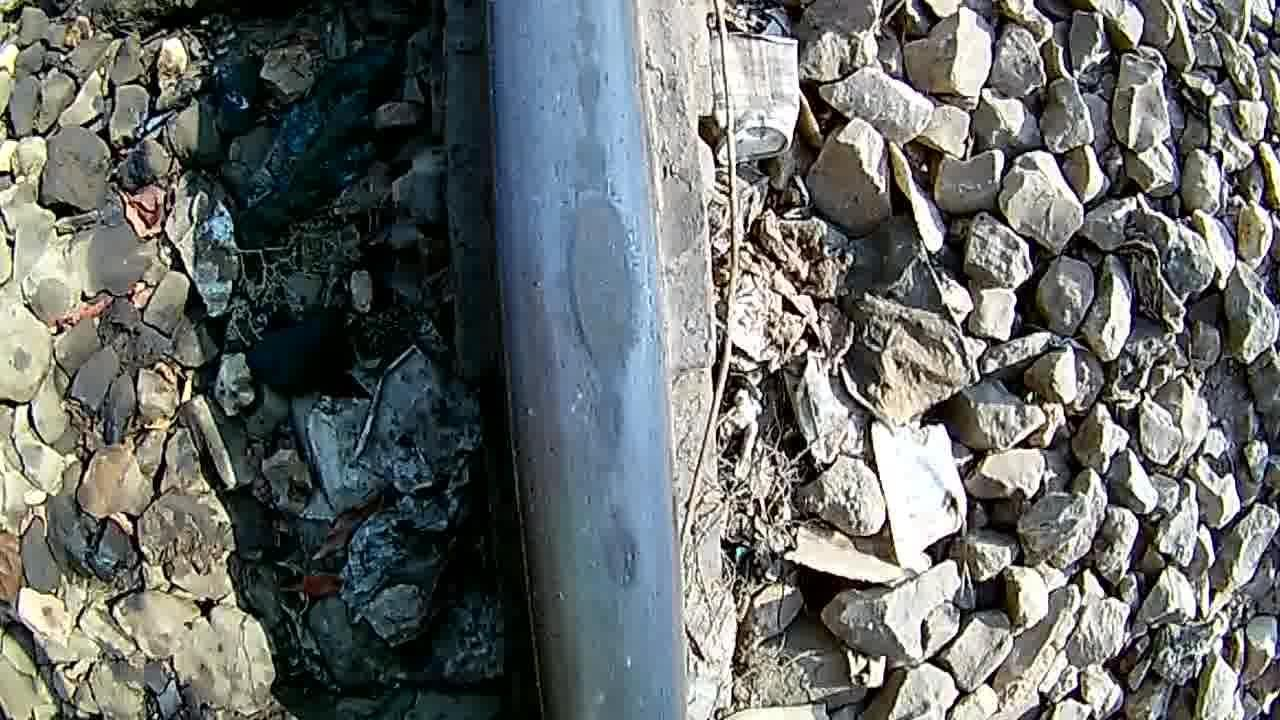crack: (497, 3, 679, 668)
